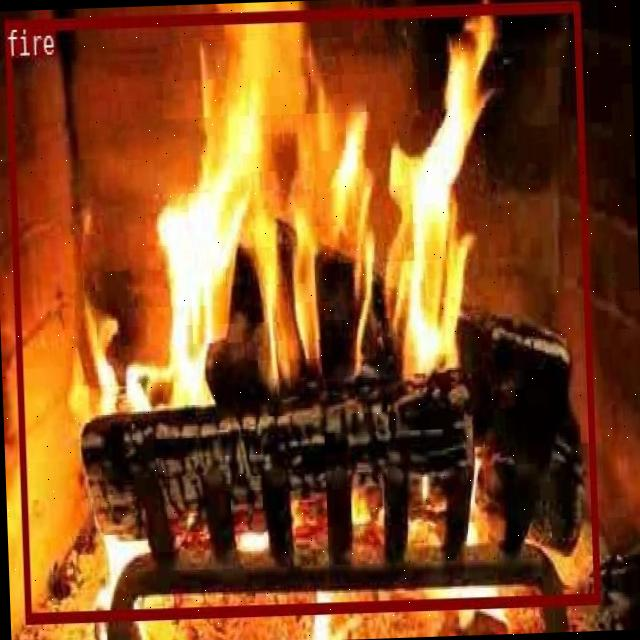fire: (3, 0, 598, 620)
